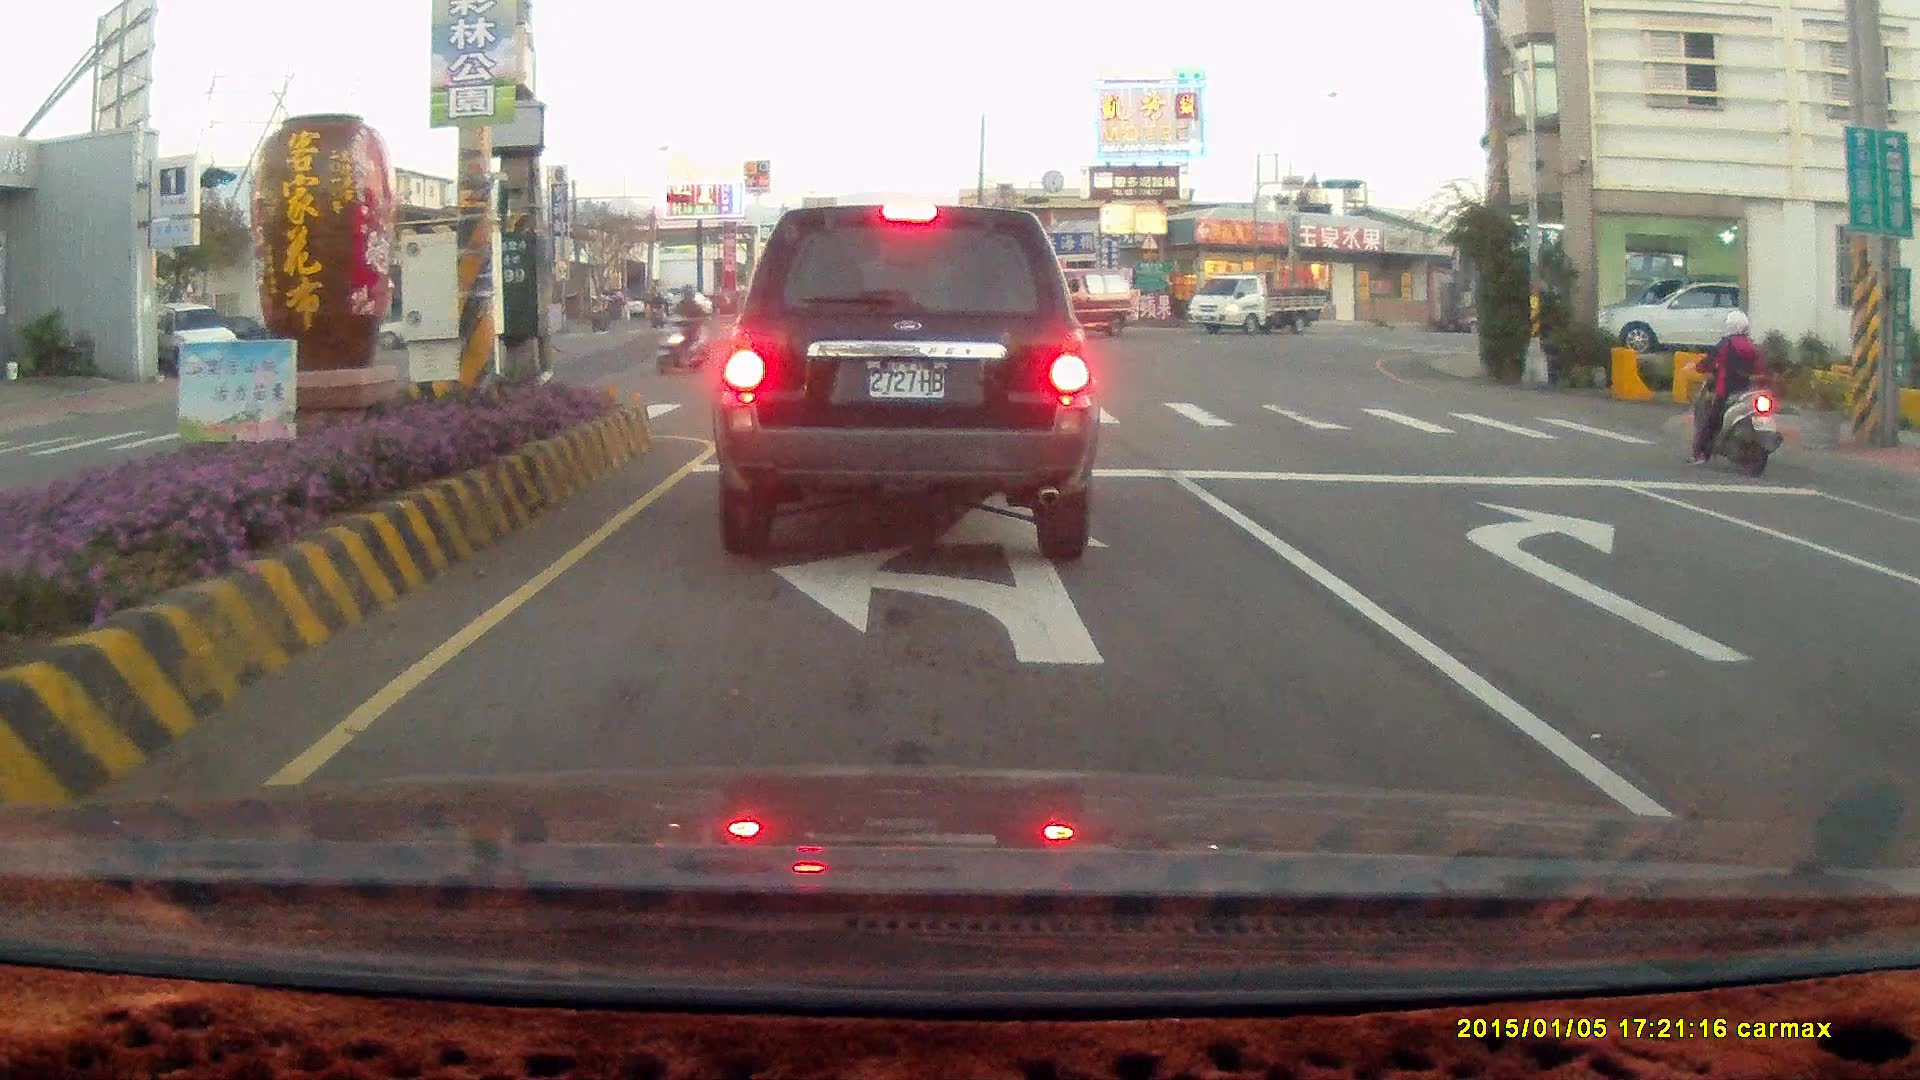rider: (1689, 308, 1783, 475), (653, 282, 713, 375), (586, 290, 612, 330), (650, 289, 671, 326)
vehicle: (709, 203, 1100, 563), (1586, 275, 1787, 353), (1003, 266, 1134, 341), (1603, 280, 1738, 351), (1186, 275, 1329, 341), (1002, 266, 1133, 338), (128, 299, 238, 379), (1896, 493, 1920, 836), (1883, 528, 1920, 690)
